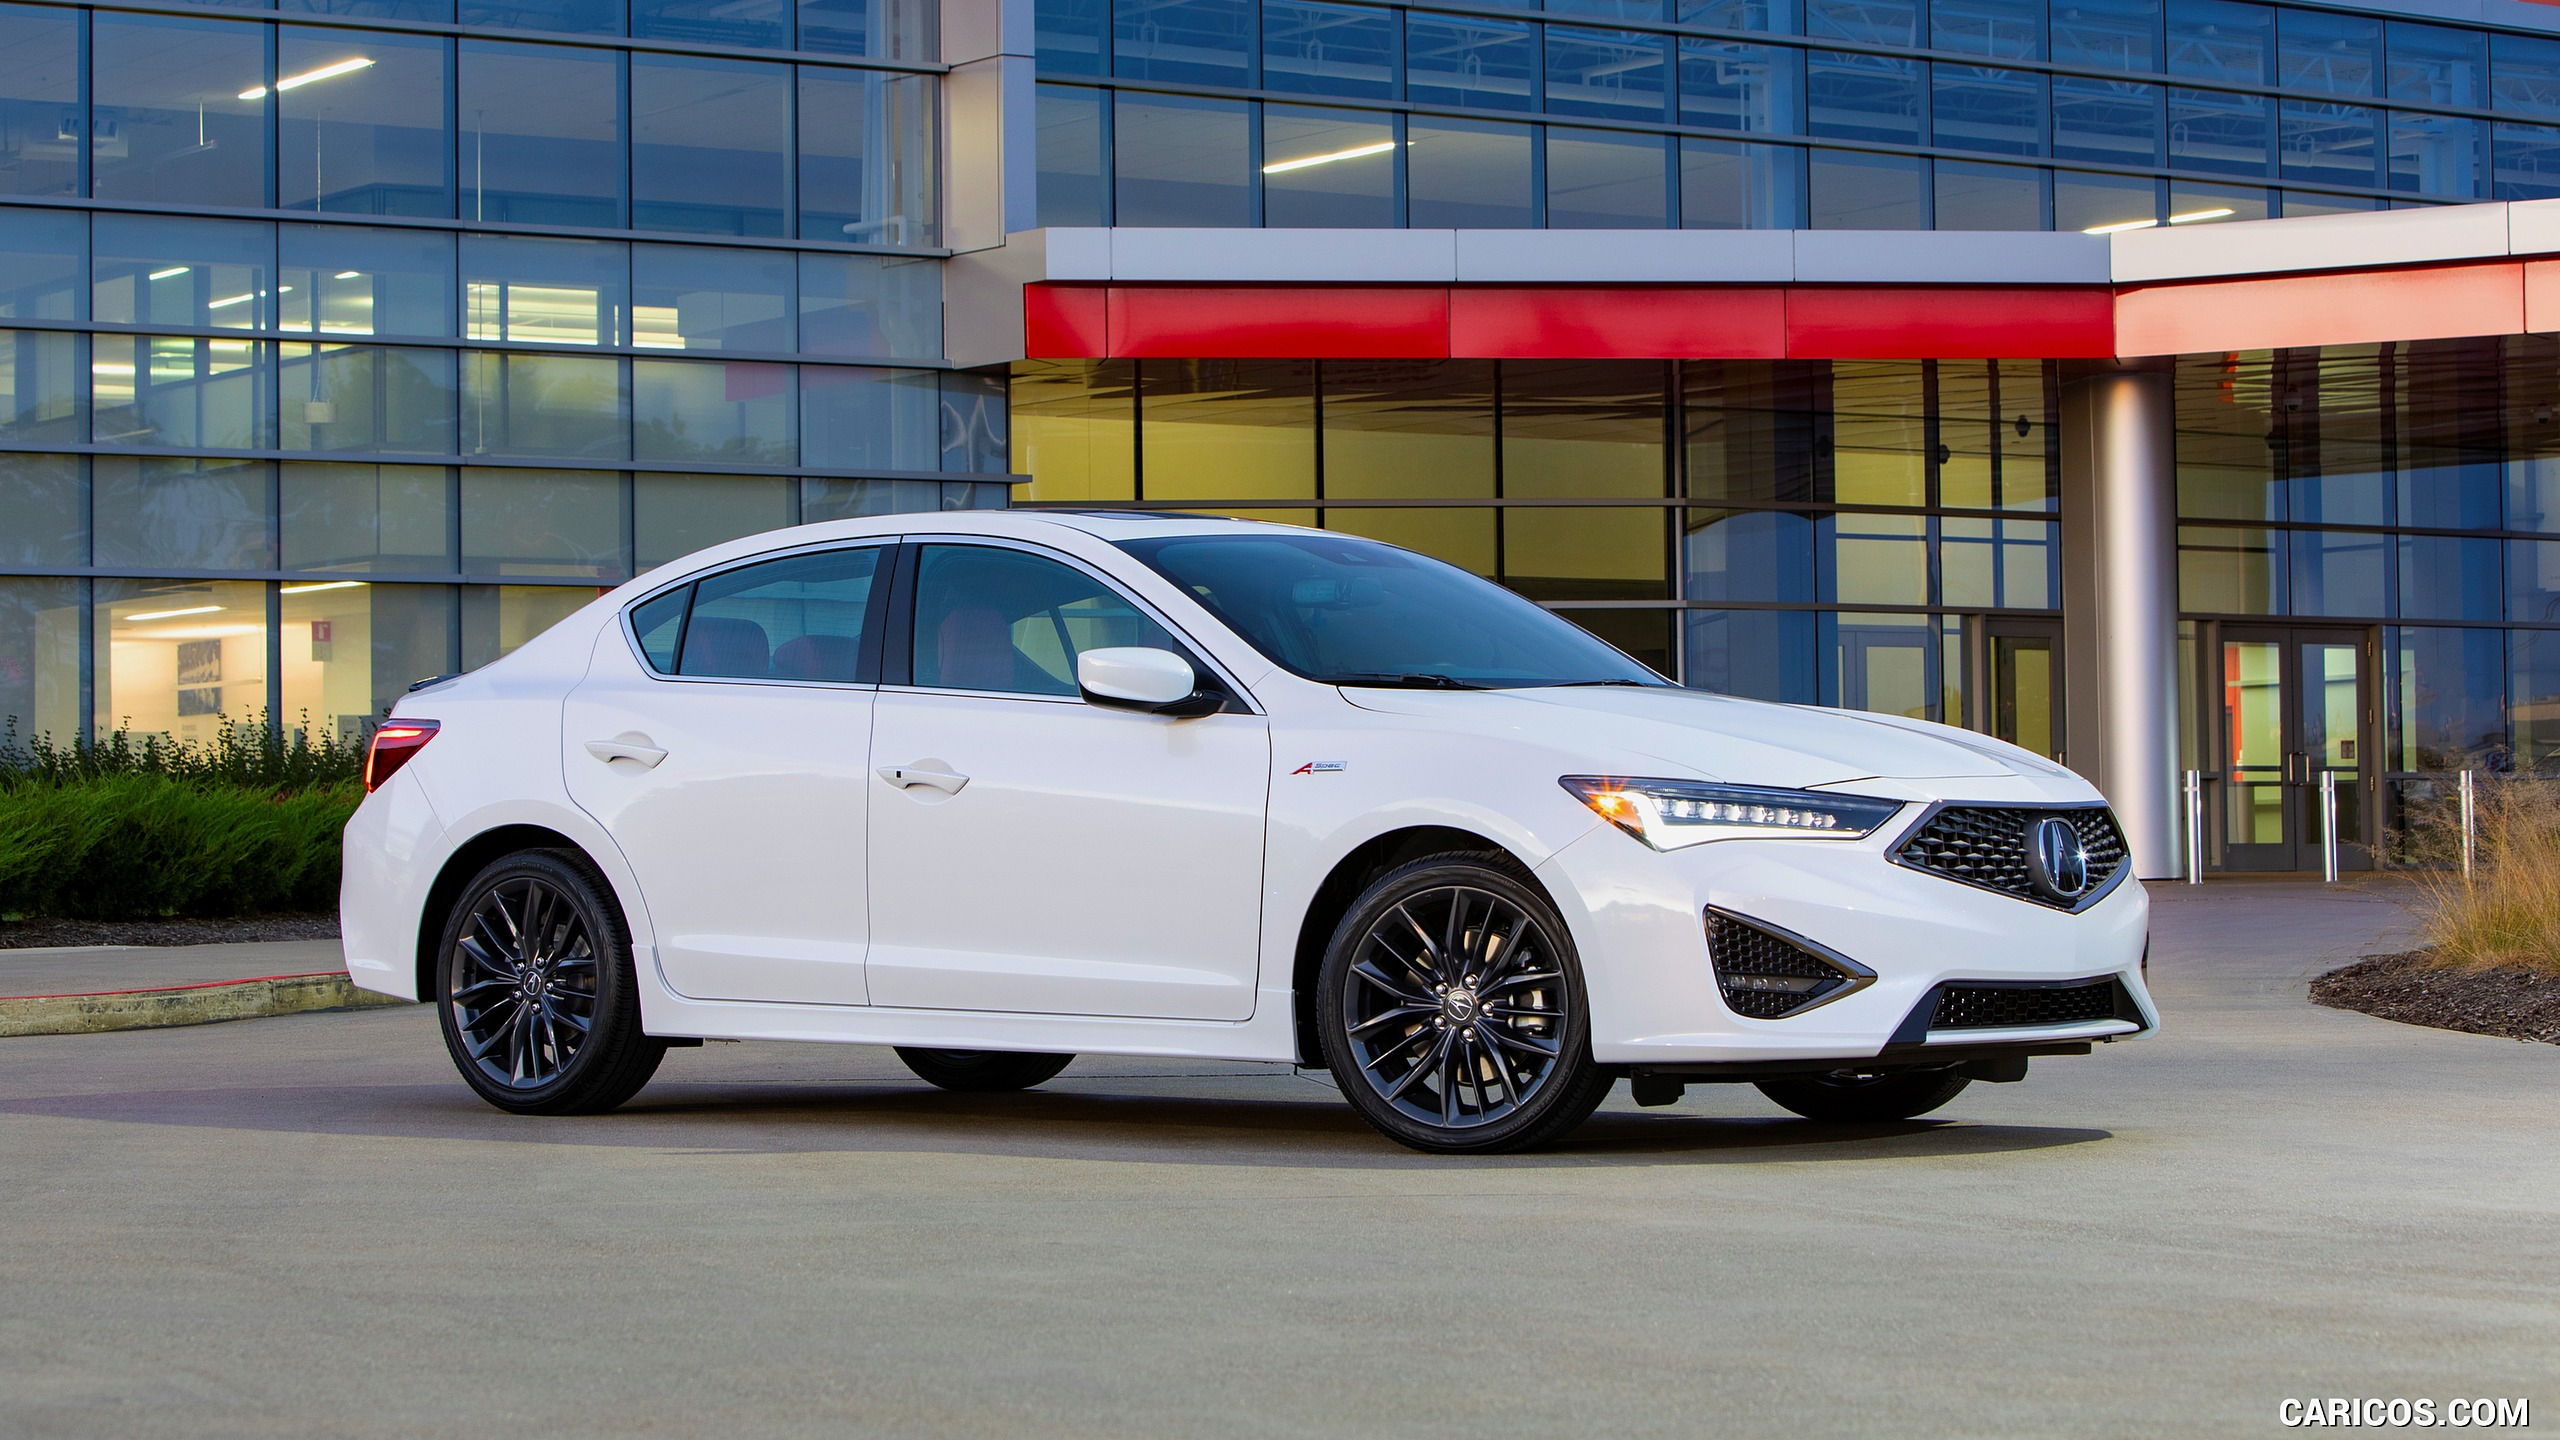Fog Lamp & Scope: (1705, 932, 1844, 1020)
Front: (1322, 689, 2170, 1051)
Front Bumper: (1563, 920, 2164, 1051)
Grill: (1897, 809, 2127, 898)
Headlight: (1558, 775, 1885, 853)
